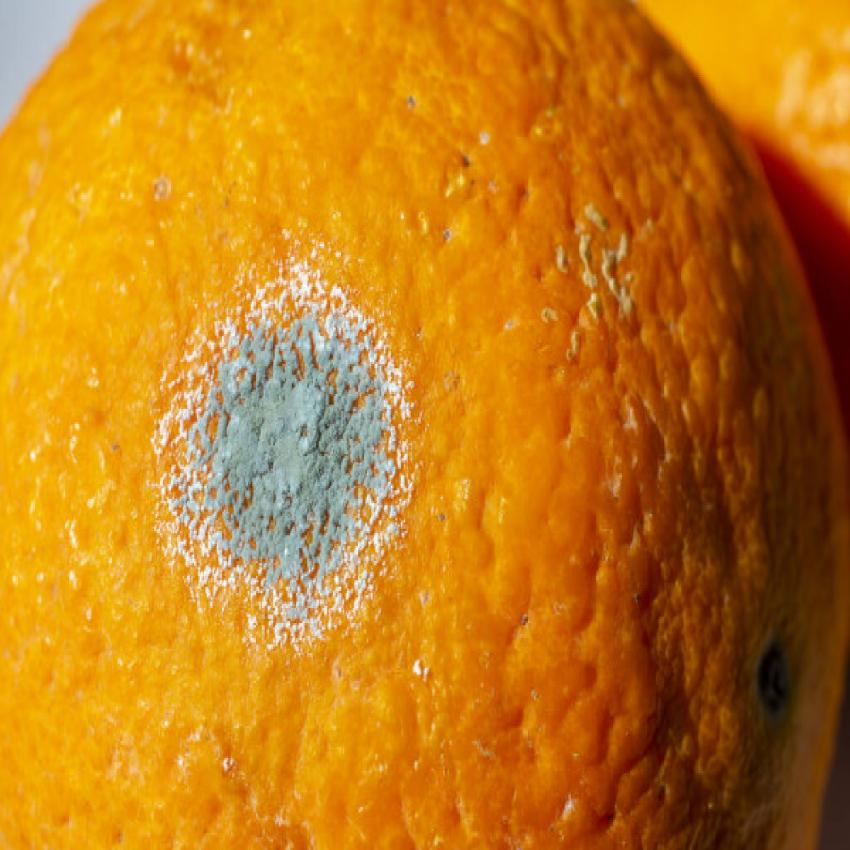Mal estado: (0, 0, 836, 844)
